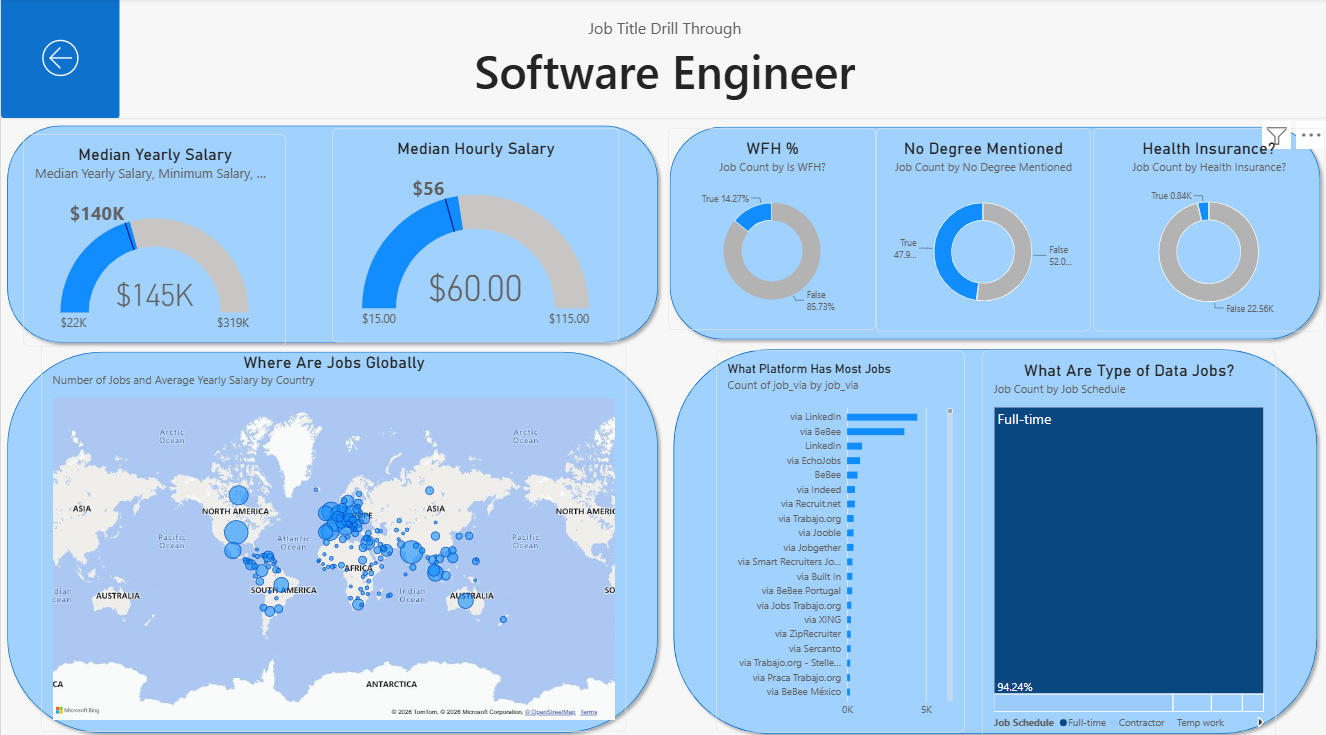

Layout of this report page (visuals, bound fields, positions):
{"tool":"powerbi","page":{"name":"Job Title Drill Through","canvas":[1920,1080],"ordinal":1},"visuals":[{"type":"group","id":"g1","title":"Background","box":[0,176.2,1920,898.1],"z":0},{"type":"cardVisual","fields":{"Data":["Min(job_postings_flat.job_title_short)1"]},"box":[0,0,1920,176],"z":1000},{"type":"actionButton","box":[0,0,172,174],"z":2000},{"type":"shape","box":[0,176.2,960,332.5],"z":2000,"group":"g1"},{"type":"shape","box":[960,178.2,960,326],"z":3000,"group":"g1"},{"type":"gauge","title":"Median Yearly Salary","fields":{"MaxValue":["Max(job_postings_flat.salary_year_avg)"],"MinValue":["Min(job_postings_flat.salary_year_avg)"],"TargetValue":["Avg(job_postings_flat.salary_year_avg)1"],"Y":["Median(job_postings_flat.salary_year_avg)"]},"box":[32.5,197.5,380,307.5],"z":3000},{"type":"gauge","title":"Median Hourly Salary","fields":{"MaxValue":["Max(job_postings_flat.salary_hour_avg)2"],"MinValue":["Min(job_postings_flat.salary_hour_avg)1"],"TargetValue":["Avg(job_postings_flat.salary_hour_avg)3"],"Y":["Median(job_postings_flat.salary_hour_avg)"]},"box":[480,187.5,415,310],"z":4000},{"type":"shape","box":[0,504.3,960,570],"z":4000,"group":"g1"},{"type":"donutChart","title":"WFH %","fields":{"Category":["job_postings_flat.job_work_from_home"],"Y":["CountNonNull(job_postings_flat.job_work_from_home)"]},"box":[966,188,300,292],"z":5000},{"type":"shape","box":[965,499.3,950,575],"z":5000,"group":"g1"},{"type":"donutChart","title":"No Degree Mentioned","fields":{"Category":["job_postings_flat.job_no_degree_mention"],"Y":["CountNonNull(job_postings_flat.job_work_from_home)"]},"box":[1266,188,310,294],"z":6000},{"type":"donutChart","title":"Health Insurance?","fields":{"Category":["job_postings_flat.job_health_insurance"],"Y":["CountNonNull(job_postings_flat.job_work_from_home)"]},"box":[1582,188,334,294],"z":7000},{"type":"map","title":"Where Are Jobs Globally","fields":{"Category":["job_postings_flat.job_country"],"Size":["CountNonNull(job_postings_flat.job_title_short)"]},"box":[57.5,497.5,847.5,565],"z":8000},{"type":"treemap","title":"What Are Type of Data Jobs?","fields":{"Group":["job_postings_flat.job_schedule_type"],"Values":["CountNonNull(job_postings_flat.job_title_short)"]},"box":[1420,510,425,570],"z":9000},{"type":"barChart","title":"What Platform Has Most Jobs","fields":{"Category":["job_postings_flat.job_via"],"Y":["CountNonNull(job_postings_flat.job_via)"]},"box":[1035,510,360,552.5],"z":10000}]}

Visuals, with their boxes in screenshot pixels (x1, y1, x2, y2), scaled from the page's 1920x1080 canvas onto the 1326x735 screenshot:
"Background" group: locate(0, 120, 1325, 731)
cardVisual - Min(job_postings_flat.job_title_short)1: locate(0, 0, 1325, 120)
actionButton: locate(0, 0, 119, 118)
shape: locate(0, 120, 663, 346)
shape: locate(663, 121, 1325, 343)
"Median Yearly Salary" gauge: locate(22, 134, 285, 344)
"Median Hourly Salary" gauge: locate(332, 128, 618, 339)
shape: locate(0, 343, 663, 731)
"WFH %" donutChart: locate(667, 128, 874, 327)
shape: locate(666, 340, 1323, 731)
"No Degree Mentioned" donutChart: locate(874, 128, 1088, 328)
"Health Insurance?" donutChart: locate(1093, 128, 1323, 328)
"Where Are Jobs Globally" map: locate(40, 339, 625, 723)
"What Are Type of Data Jobs?" treemap: locate(981, 347, 1274, 734)
"What Platform Has Most Jobs" barChart: locate(715, 347, 963, 723)
